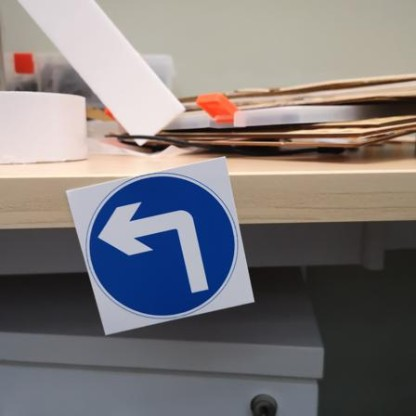left: (74, 172, 267, 319)
